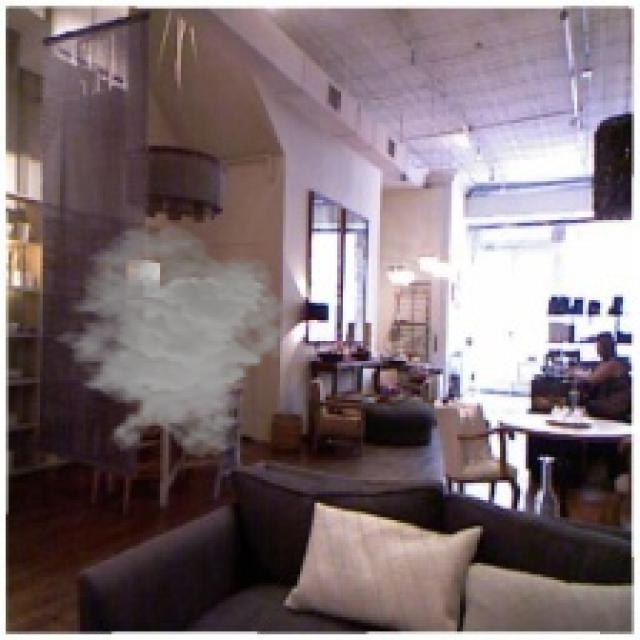smoke: (46, 223, 297, 460)
